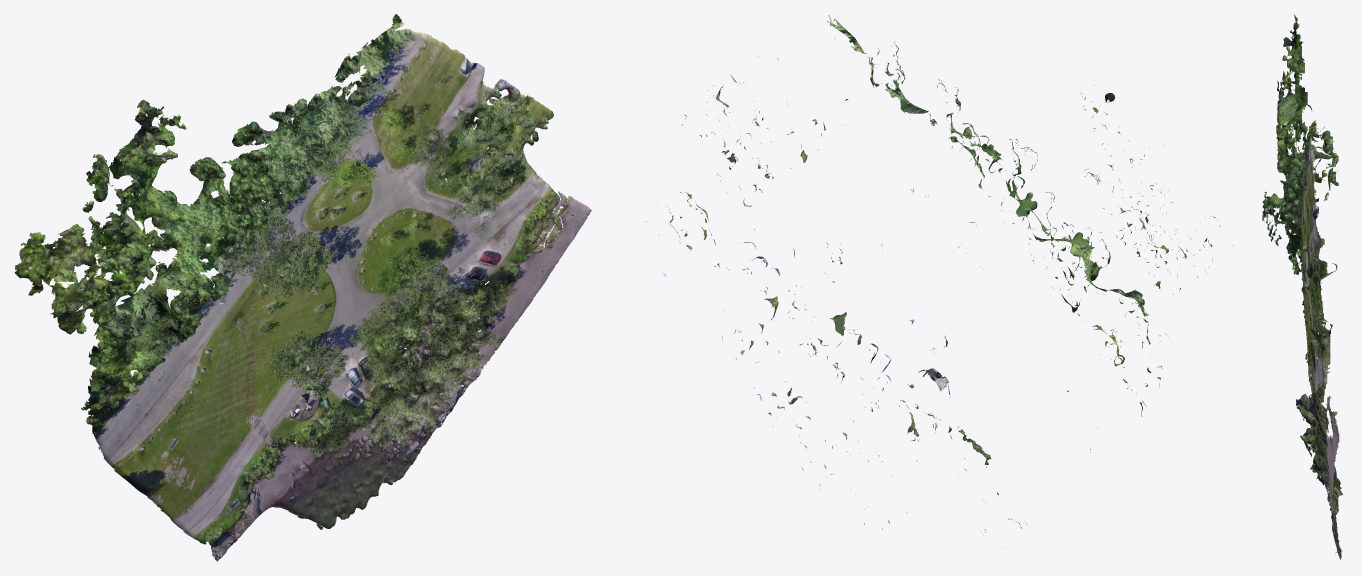
File: mapa_simple25.glb
3 renders of one model, left to right at view 1: azimuth 30°, elevation 25°; view 2: azimuth 150°, elevation 25°; view 3: azimuth 270°, elevation 25°, orthographic. The views are drawn at different scales.
Parts seen in each view (by area): view 1: Node; view 2: Node; view 3: Node.
Part boxes in pixels (<box>): Node: <box>15,14,591,561</box>; Node: <box>645,15,1220,548</box>; Node: <box>1262,14,1342,559</box>.
Size of the model in its own units: 130 by 106 by 17.93.
10 materials, 10 textured.
